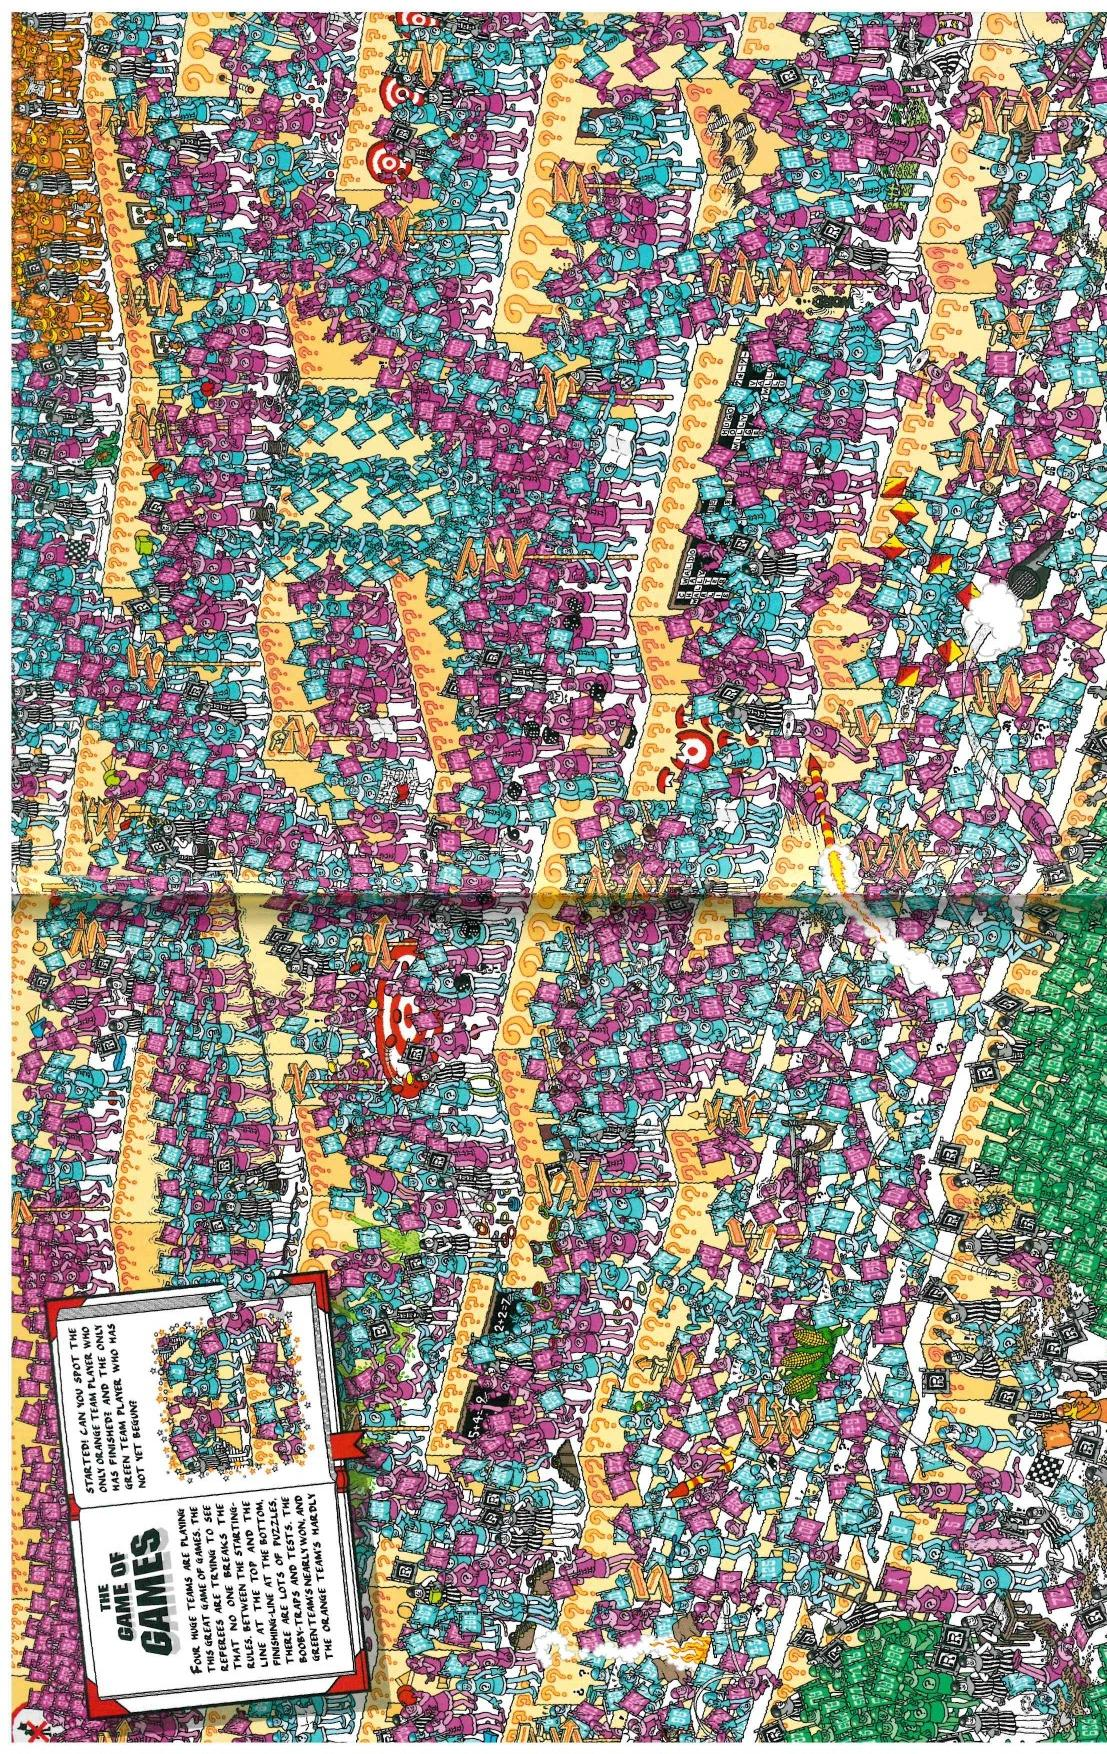waldos: (343, 1122, 374, 1141)
